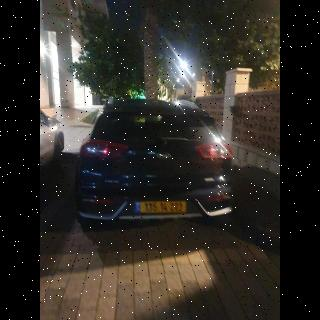LicensePlate: (142, 201, 186, 211)
